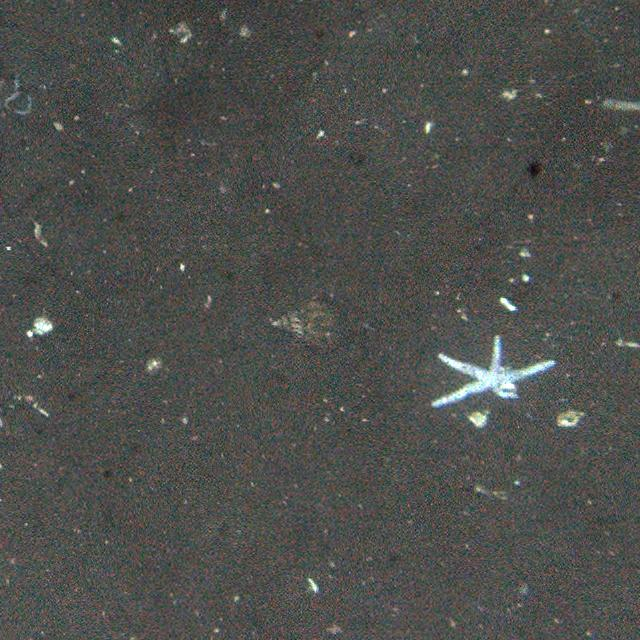whelk: (268, 296, 356, 354)
